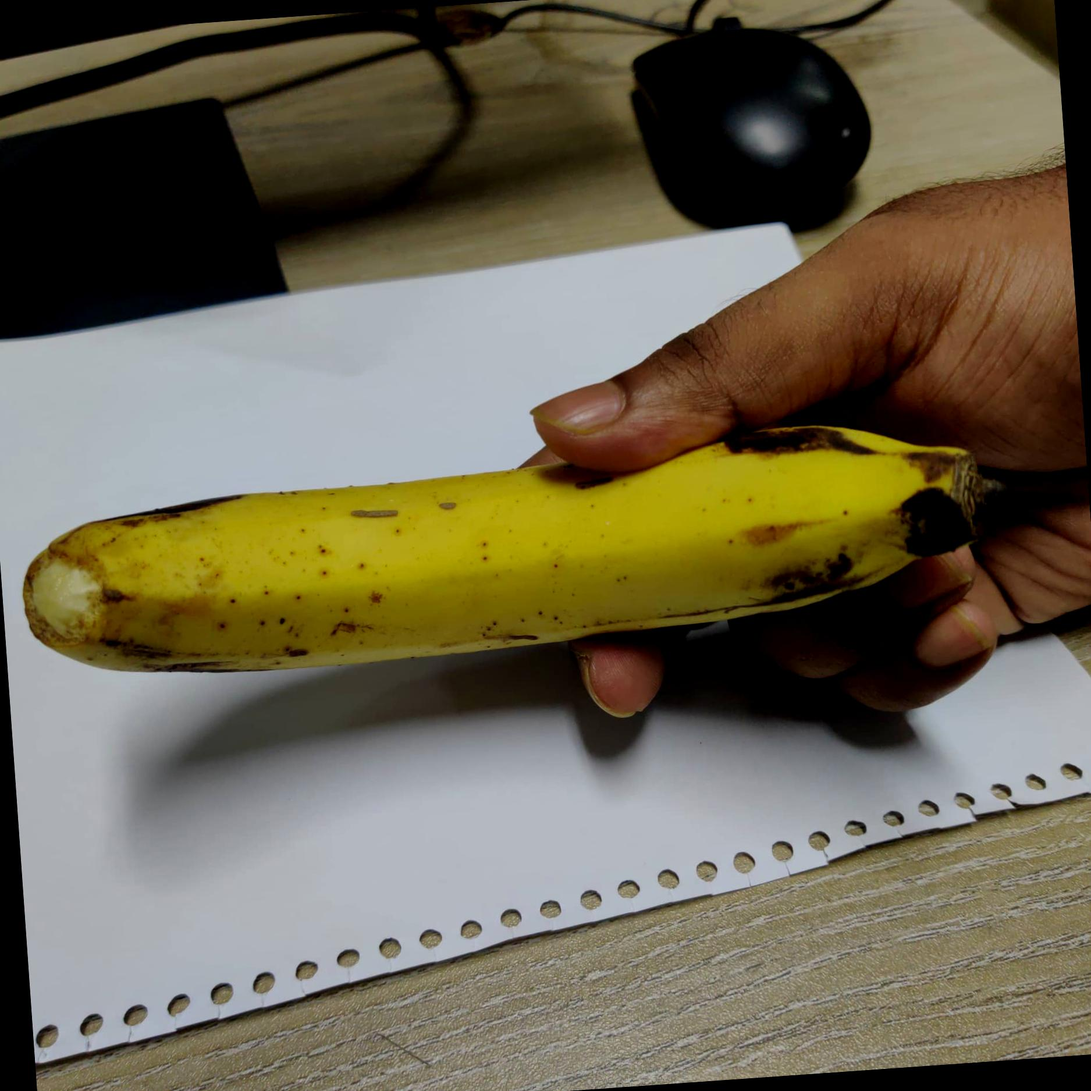Banana Ripe: (7, 398, 1061, 704)
